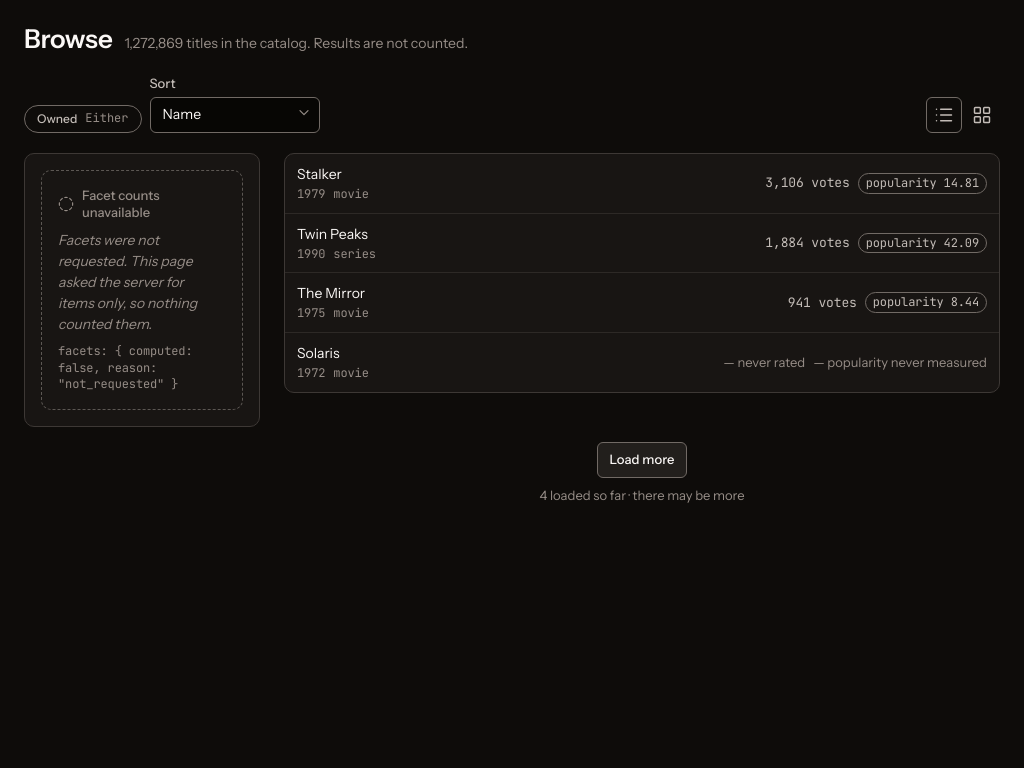
it: Browse › the trace link (patterns.md §3) › carries the link on a page that failed after the first, beside the list that stands
This screenshot has width=1024, height=768.
Click the button "Load more": (642, 460) [597,442,688,478]
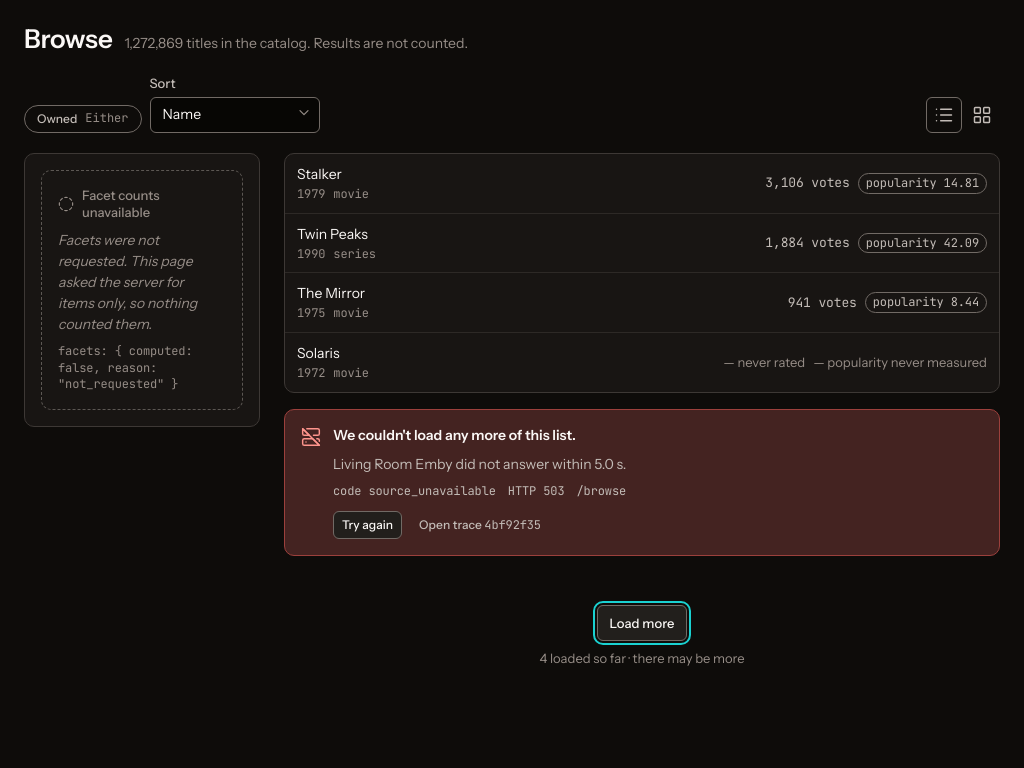
Result: the text "code source_unavailable" is shown at [333,482,496,499]
